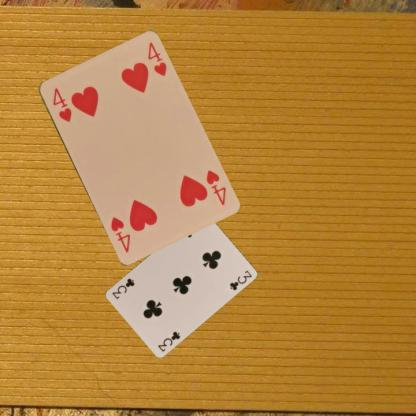3c: (155, 328, 181, 352)
4h: (203, 167, 227, 207), (50, 84, 72, 124)
